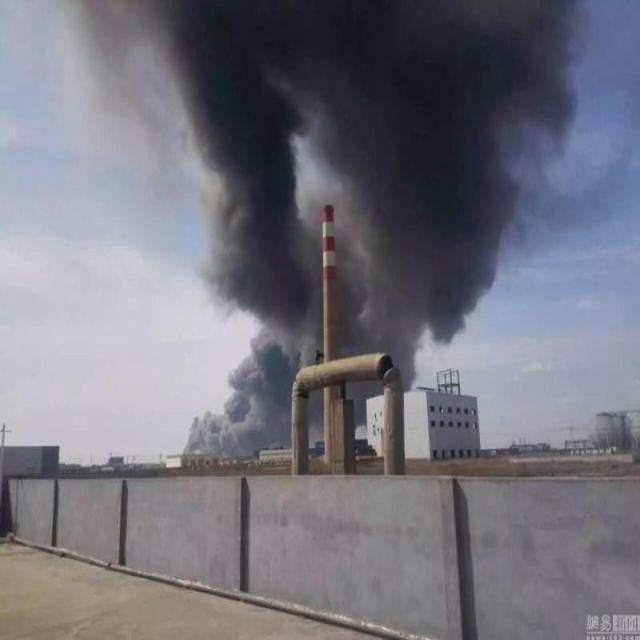Smoke: (59, 1, 584, 459)
